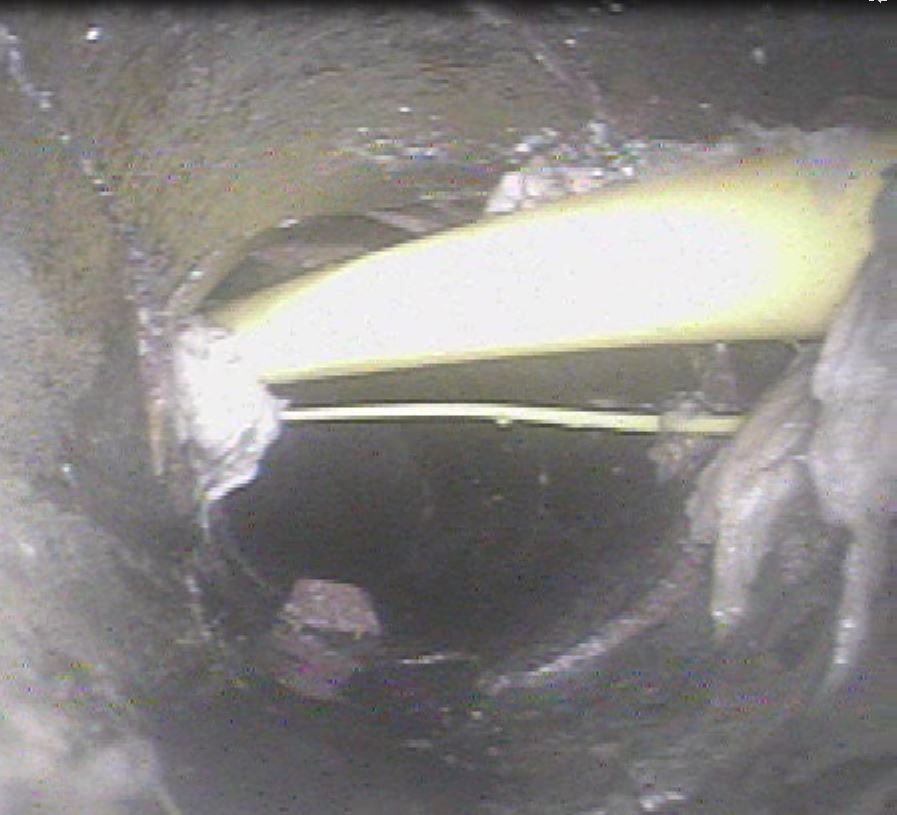cb: (134, 112, 897, 376), (192, 380, 811, 495)
